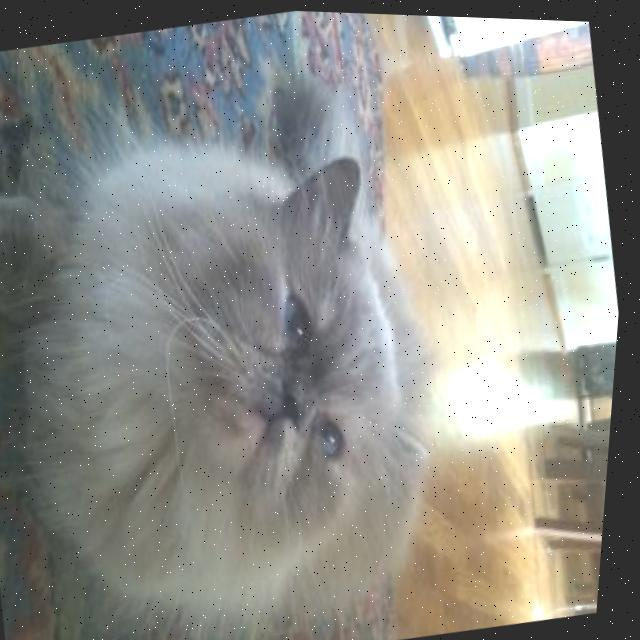Persian: (0, 46, 510, 640)
